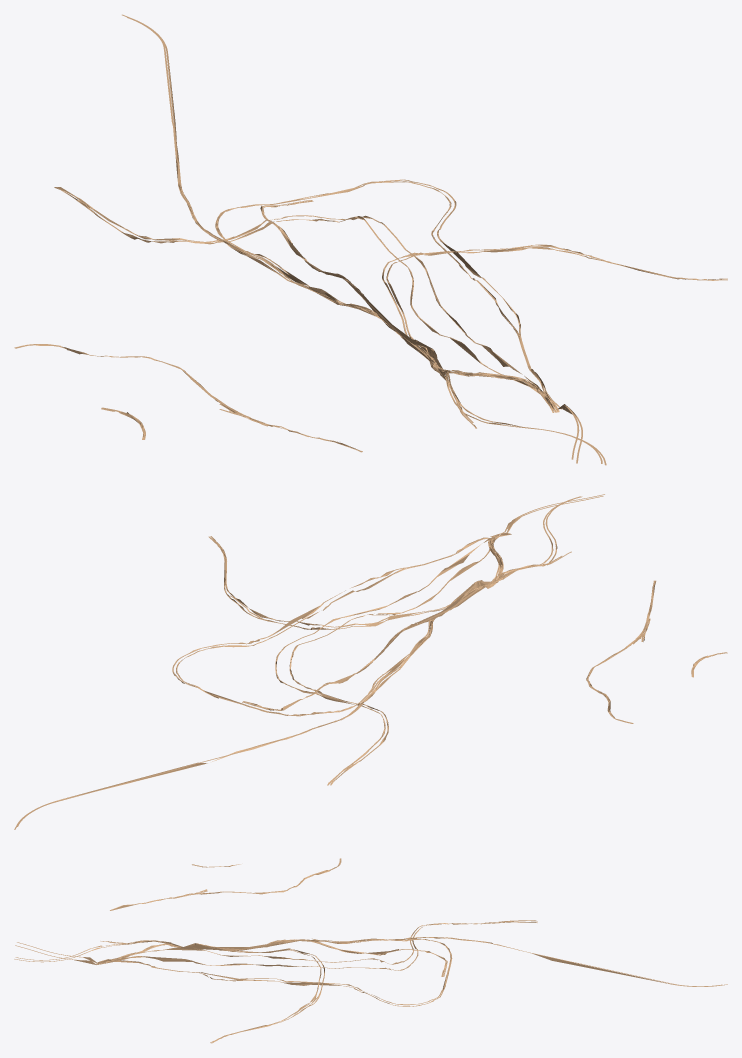
Rendered from rail.glb.
The picture shows the model from 3 angles, top to bottom: view 1: azimuth 30°, elevation 25°; view 2: azimuth 150°, elevation 25°; view 3: azimuth 270°, elevation 25°; orthographic projection. The views are drawn at different scales.
Visible parts, largest first — view 1: rail; view 2: rail; view 3: rail.
Boxes of the visible parts, <box> form: rail: <box>14,14,727,465</box>; rail: <box>14,494,727,829</box>; rail: <box>14,858,727,1043</box>.
Size of the model in its own units: 2508 by 106 by 4127.
